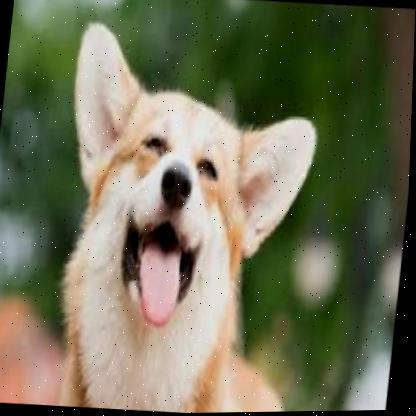dog: (39, 17, 331, 415)
